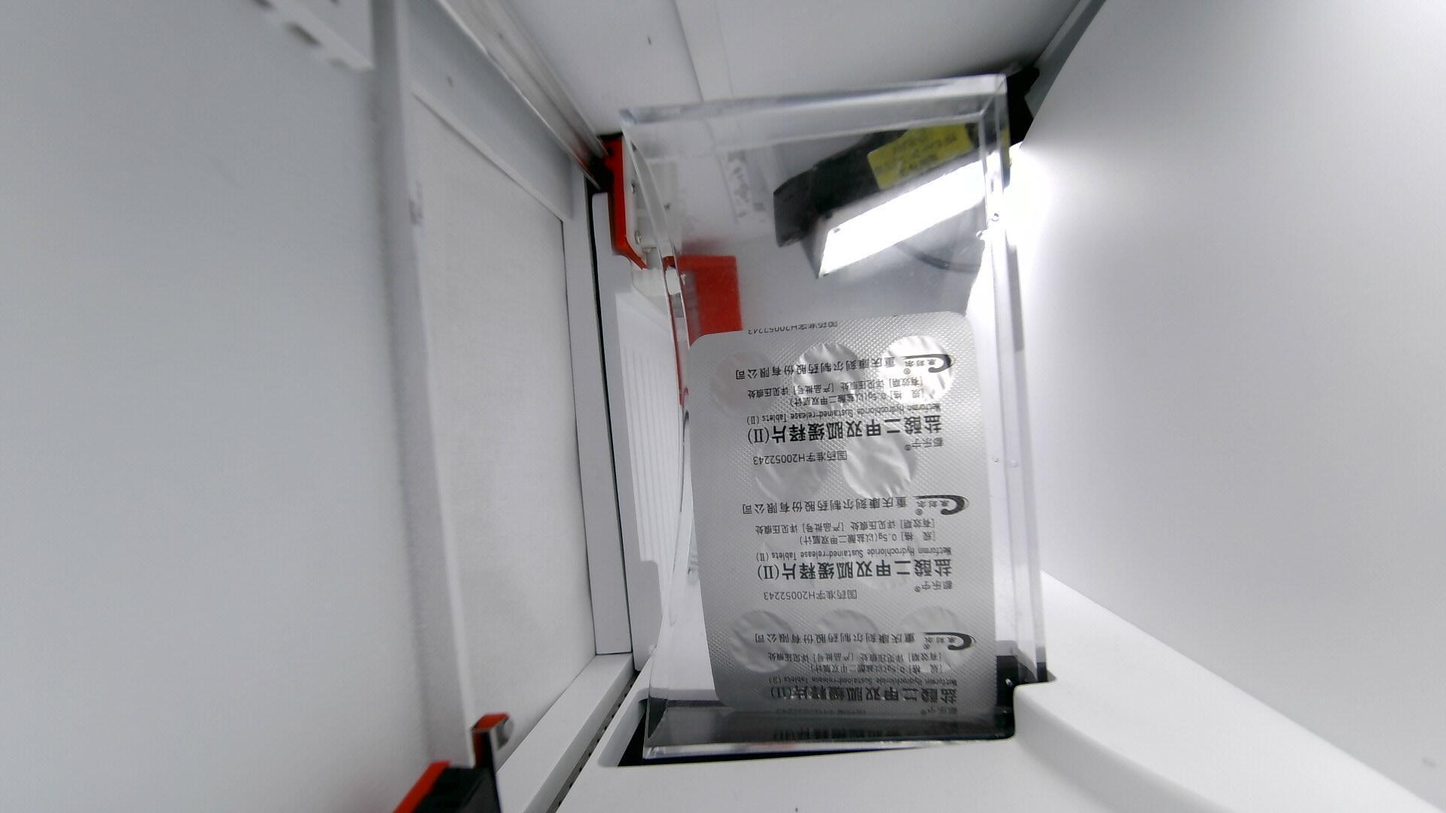Pill Back: (801, 595, 886, 678), (877, 330, 959, 409), (793, 339, 881, 412), (894, 605, 975, 681), (708, 351, 797, 419), (833, 430, 926, 495), (758, 527, 847, 589), (737, 436, 824, 498), (720, 607, 789, 682), (856, 524, 922, 592)
